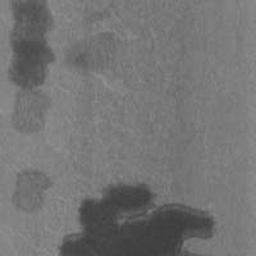Oil spot: (0, 0, 120, 145), (55, 179, 218, 256), (8, 166, 55, 214), (83, 0, 122, 26)
